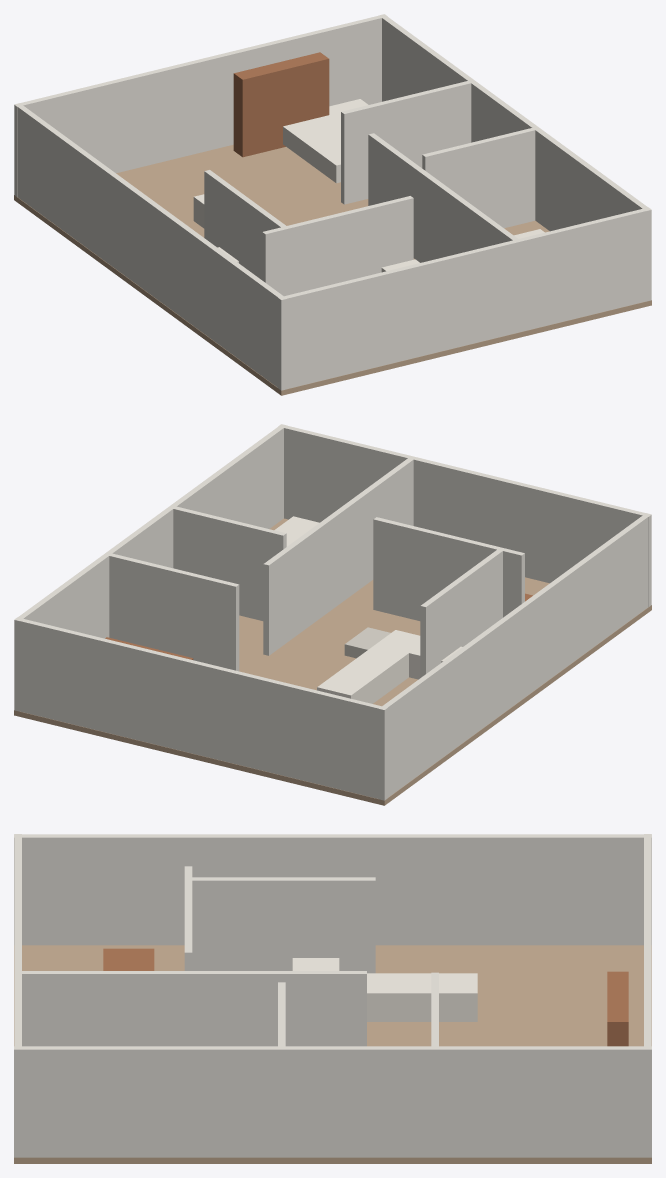
File: flooring-study.glb
3 renders of one model, top to bottom at view 1: azimuth 30°, elevation 25°; view 2: azimuth 150°, elevation 25°; view 3: azimuth 270°, elevation 25°, orthographic. The views are drawn at different scales.
Visible parts, largest first — view 1: wall (×9), floor, wardrobe, master-bed; view 2: wall (×9), floor, sofa, coffee-table, sofa-return, guest-bed; view 3: wall (×9), floor, sofa, wardrobe, dining, sofa-return.
Part boxes in pixels (x1,y1,x2,y2): wall (×9): (14,14,651,390); floor: (14,144,651,395); wardrobe: (233,52,329,157); master-bed: (283,99,368,183); wall (×9): (14,424,651,800); floor: (14,518,651,805); sofa: (317,630,420,703); coffee-table: (344,627,390,658); sofa-return: (391,634,462,679); guest-bed: (274,516,319,546); wall (×9): (14,834,651,1157); floor: (14,945,651,1163); sofa: (367,973,477,1021); wardrobe: (607,971,628,1046); dining: (103,948,154,970); sofa-return: (292,958,339,970).
Bounding box in the file's own units: 12 × 2.96 × 15.
